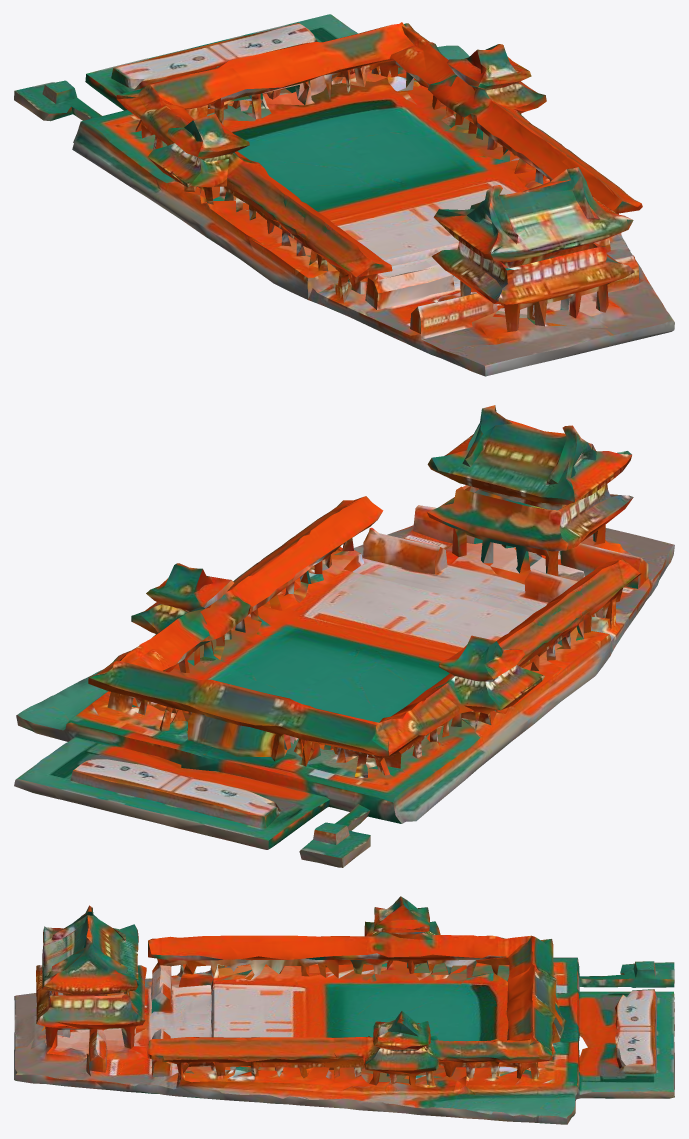
File: heian-shrine.glb
3 renders of one model, top to bottom at view 1: azimuth 30°, elevation 25°; view 2: azimuth 150°, elevation 25°; view 3: azimuth 270°, elevation 25°, orthographic. The views are drawn at different scales.
Visible parts, largest first — view 1: logan-textured.obj; view 2: logan-textured.obj; view 3: logan-textured.obj.
Part boxes in pixels (box(x1,y1,x2,y2)): logan-textured.obj: box(14, 14, 674, 376); logan-textured.obj: box(14, 405, 674, 867); logan-textured.obj: box(14, 896, 674, 1124).
Bounding box in the file's own units: 0.5692 × 0.2028 × 1.
1 material, 1 textured.
